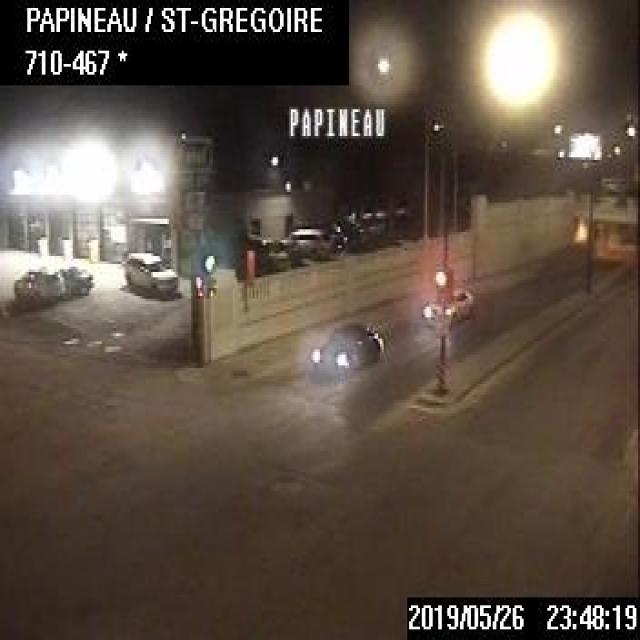vehicle: (309, 320, 386, 379), (123, 248, 181, 301), (12, 265, 64, 306), (419, 285, 474, 323), (286, 225, 336, 259), (54, 263, 94, 298)
